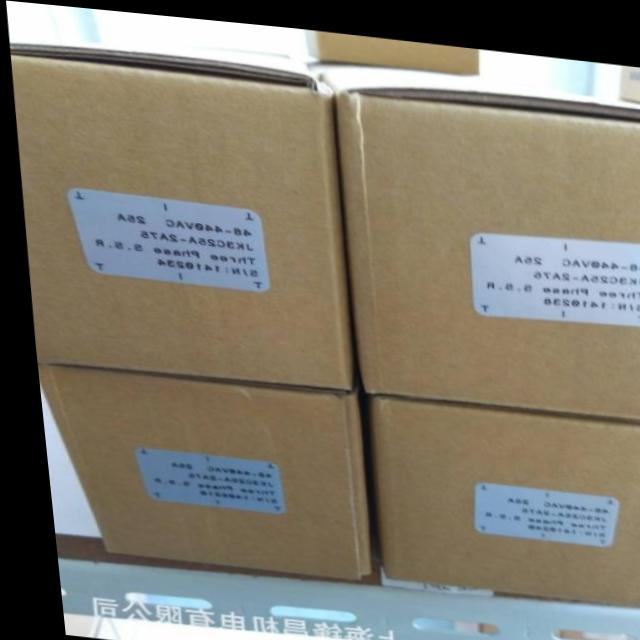box: (305, 53, 640, 410), (9, 32, 347, 385), (30, 361, 368, 575), (360, 388, 640, 595), (304, 24, 480, 66)
